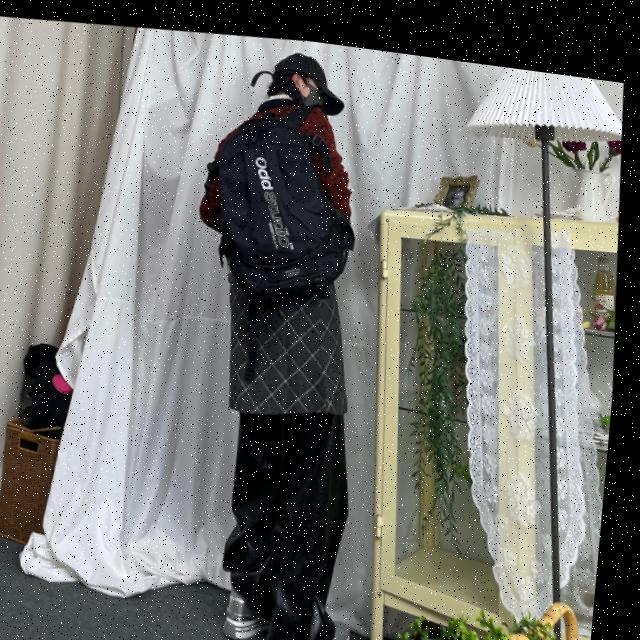backpack: (184, 62, 370, 304)
